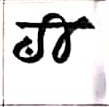i_matra: (44, 12, 68, 63)
